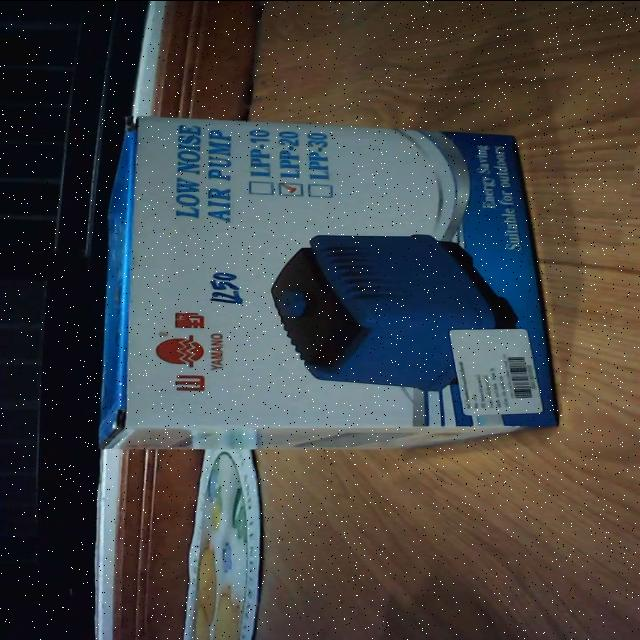YAMANO_LPP_20: (90, 115, 566, 469)
